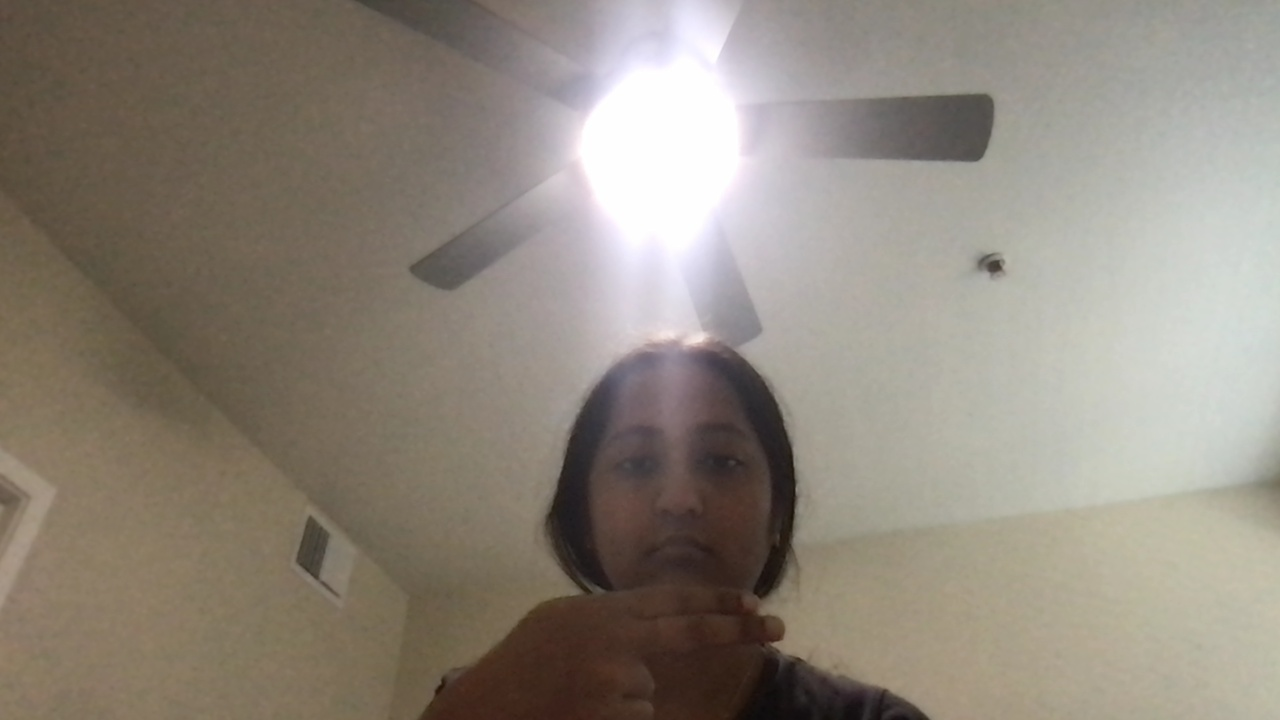h: (532, 585, 802, 720)
